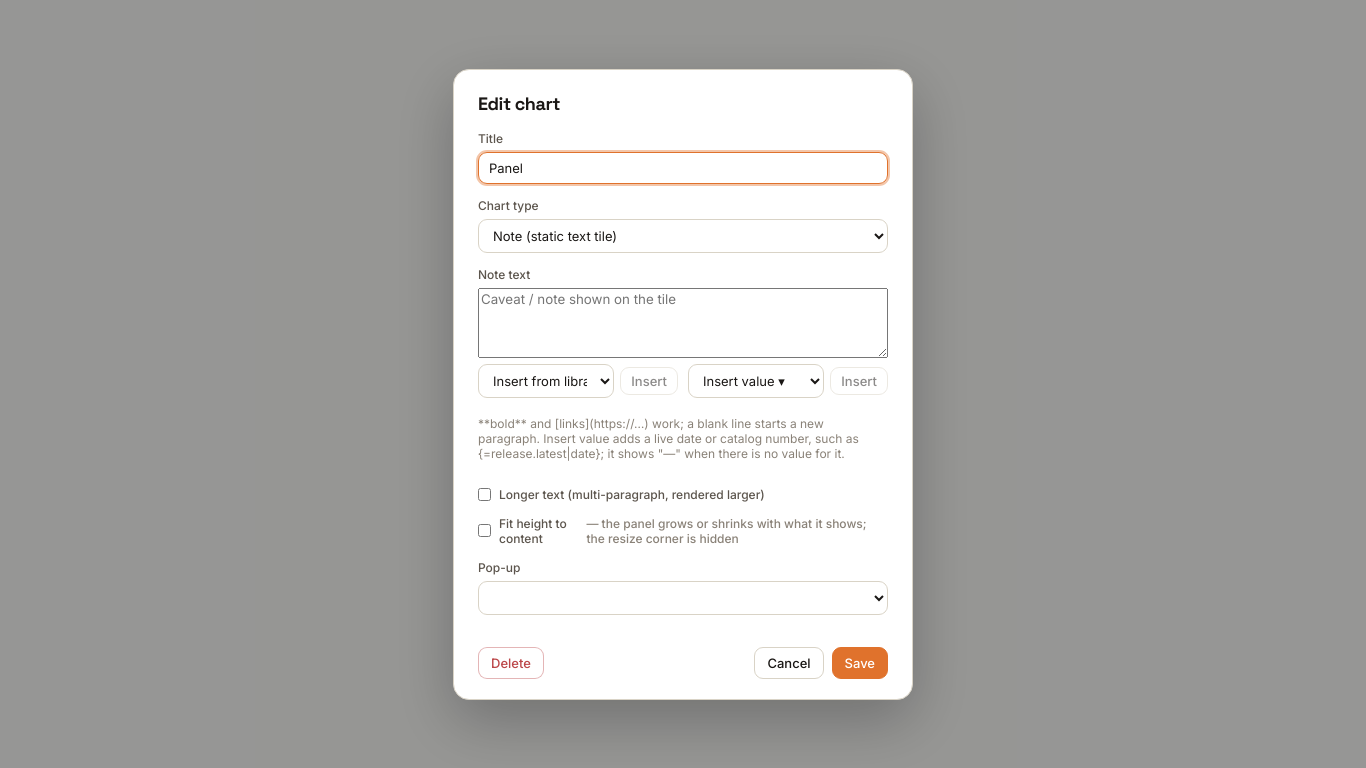
it: Insert value in a note widget › inserts a metric token
Select "Page views (page range)" in the dropdown with class "insert-value" at (756, 380), box [688,364,824,398]
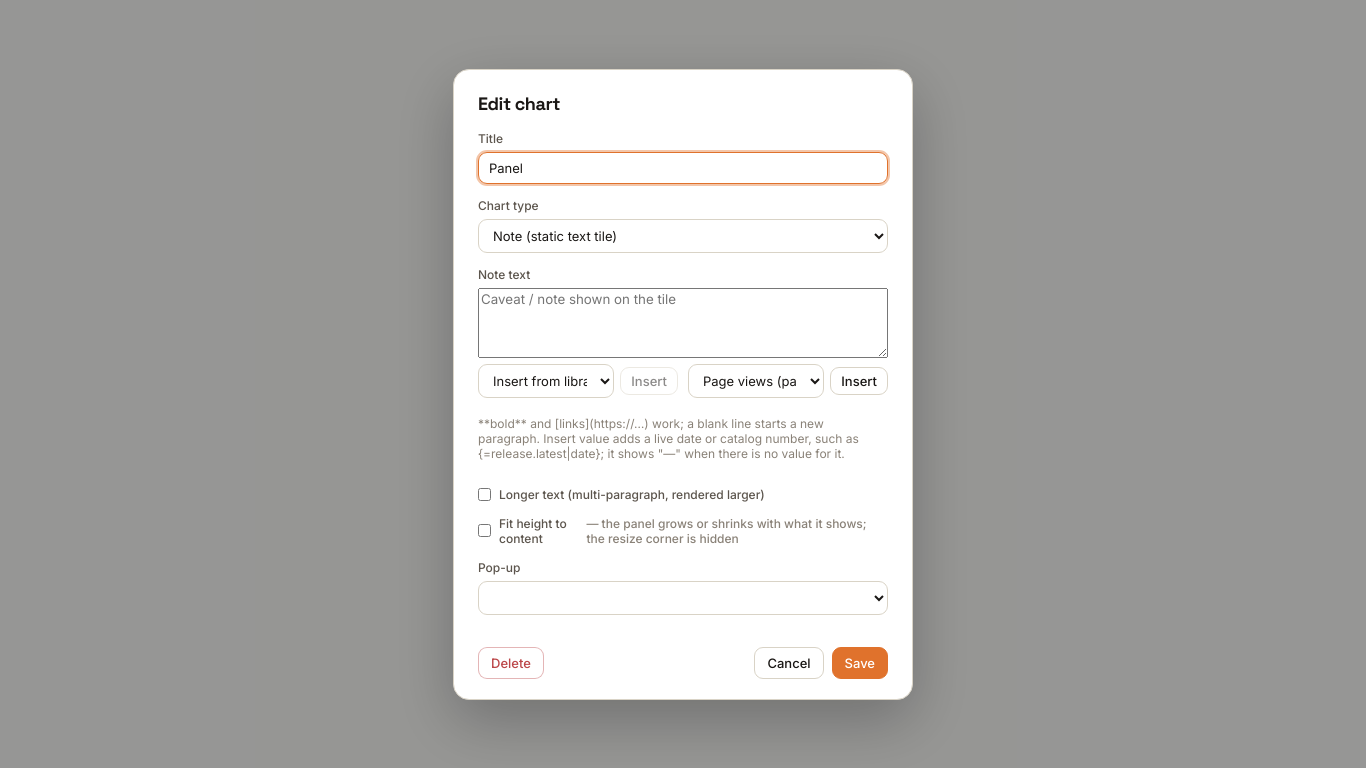
Click the 2nd button with class "insert-picker-btn" at (859, 380), box [830,366,888,394]
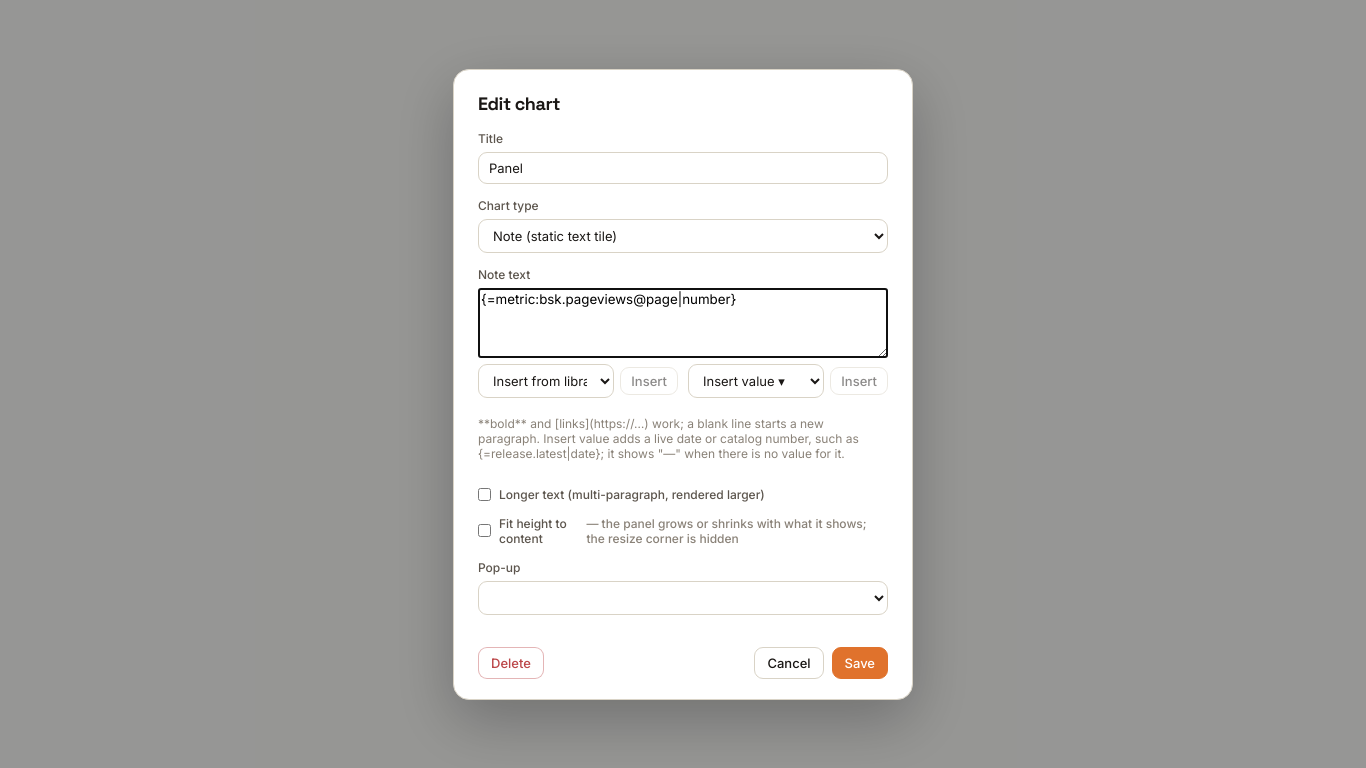
Check: the text box labelled "Note text" holds "{=metric:bsk.pageviews@page|number}", box [478,288,888,358]
